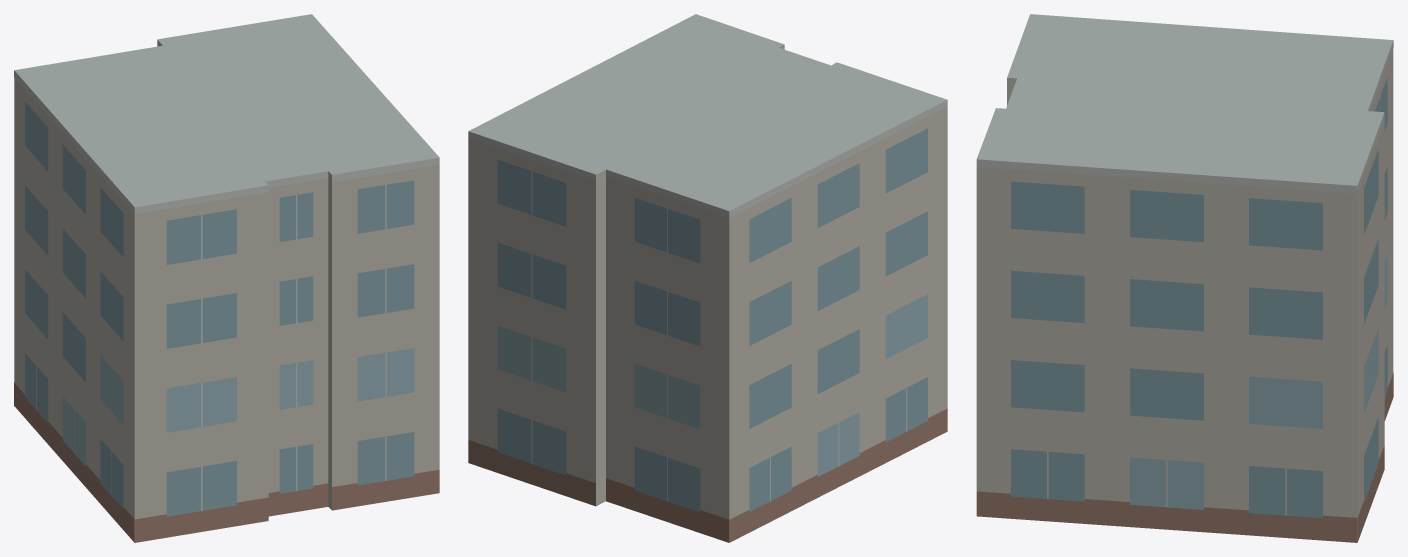
Rendered from survey-upis-32897607.glb.
3 views of the same model, side by side, from view 1: azimuth 30°, elevation 25°; view 2: azimuth 150°, elevation 25°; view 3: azimuth 270°, elevation 25° (orthographic). The views are drawn at different scales.
Parts seen in each view (by area): view 1: survey-upis-32897607.tmp; view 2: survey-upis-32897607.tmp; view 3: survey-upis-32897607.tmp.
Boxes of the visible parts, <box> form: survey-upis-32897607.tmp: <box>14,14,439,542</box>; survey-upis-32897607.tmp: <box>468,14,947,542</box>; survey-upis-32897607.tmp: <box>976,14,1393,542</box>.
Size of the model in its own units: 11.99 by 11.6 by 12.29.
